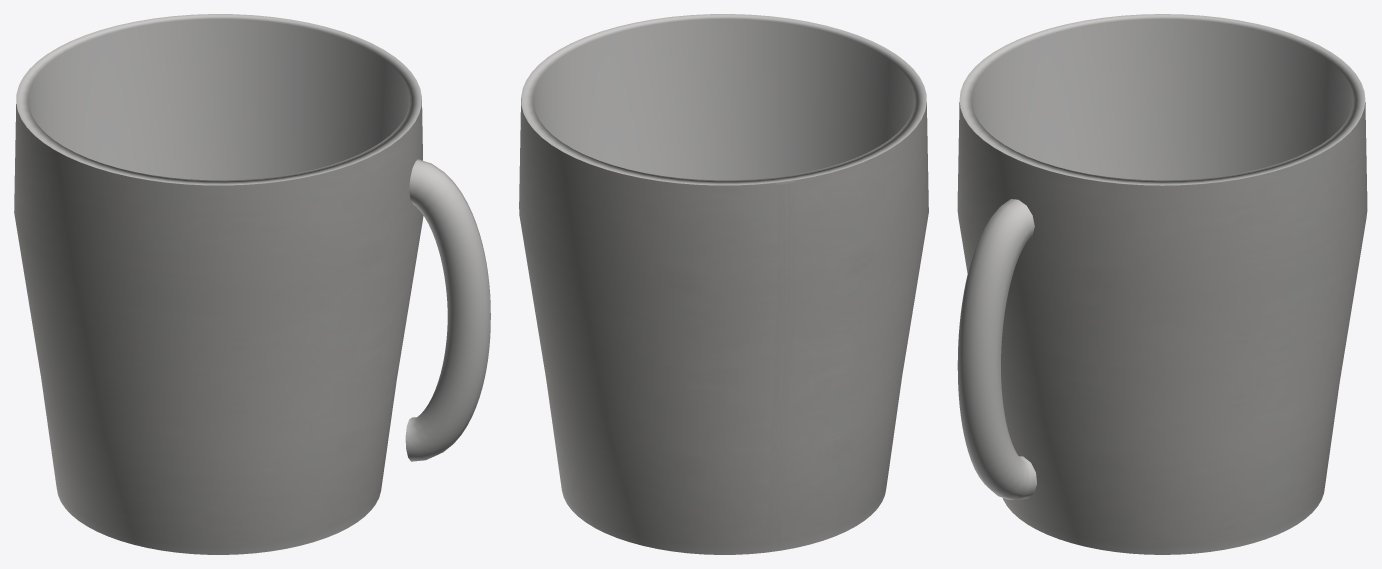
Rendered from CER-15.glb.
3 renders of one model, left to right at view 1: azimuth 30°, elevation 25°; view 2: azimuth 150°, elevation 25°; view 3: azimuth 270°, elevation 25°, orthographic.
Size of the model in its own units: 0.075 by 0.0792 by 0.075.
3 materials, 1 textured.
